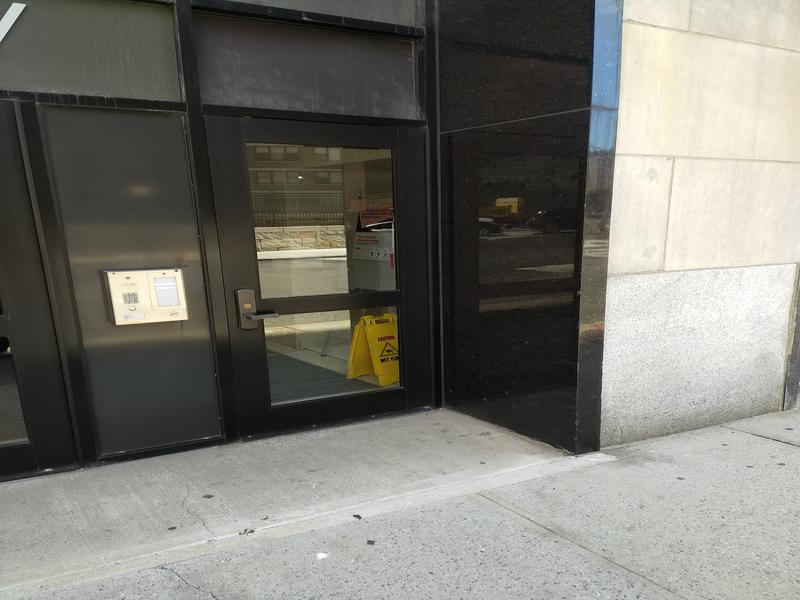door: (193, 102, 450, 433)
